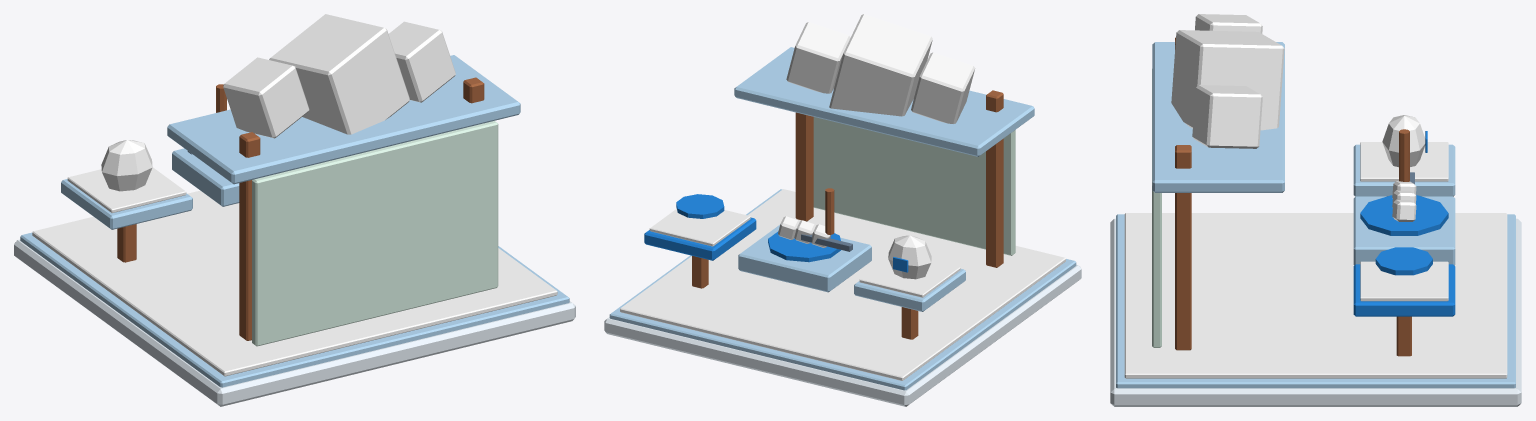
The model's file is Building_Saltworks_2x2_v002.fbx.
3 views of the same model, side by side, from view 1: azimuth 30°, elevation 25°; view 2: azimuth 150°, elevation 25°; view 3: azimuth 270°, elevation 25° (orthographic). The views are drawn at different scales.
Visible parts, largest first — view 1: FixedShell, OutputItemMesh; view 2: FixedShell, OutputItemMesh, ProcessRawMesh, InputItemMesh, ProcessFinishedMesh, WorkingPartMesh; view 3: FixedShell, ProcessRawMesh, OutputItemMesh, InputItemMesh, ProcessFinishedMesh, WorkingPartMesh.
Part boxes in pixels (<box>): FixedShell: <box>14,14,575,406</box>; OutputItemMesh: <box>101,140,152,191</box>; FixedShell: <box>604,14,1081,406</box>; OutputItemMesh: <box>888,235,931,279</box>; ProcessRawMesh: <box>768,231,840,262</box>; InputItemMesh: <box>676,194,724,218</box>; ProcessFinishedMesh: <box>778,216,831,247</box>; WorkingPartMesh: <box>801,188,852,251</box>; FixedShell: <box>1110,14,1521,406</box>; ProcessRawMesh: <box>1360,195,1448,235</box>; OutputItemMesh: <box>1382,115,1427,167</box>; InputItemMesh: <box>1375,247,1432,275</box>; ProcessFinishedMesh: <box>1392,181,1416,221</box>; WorkingPartMesh: <box>1399,129,1414,184</box>.
Size of the model in its own units: 186 by 147 by 186.
